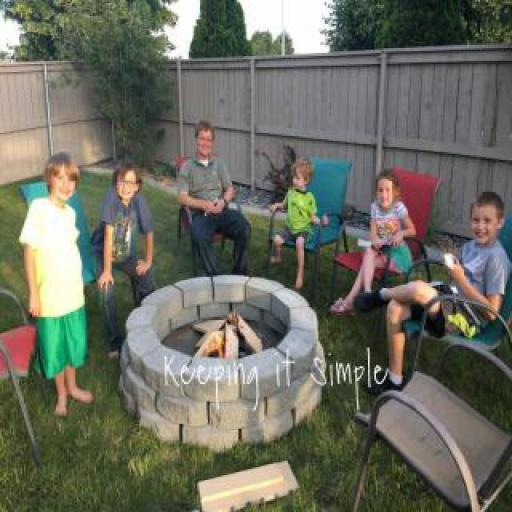smoke: (195, 314, 227, 360)
